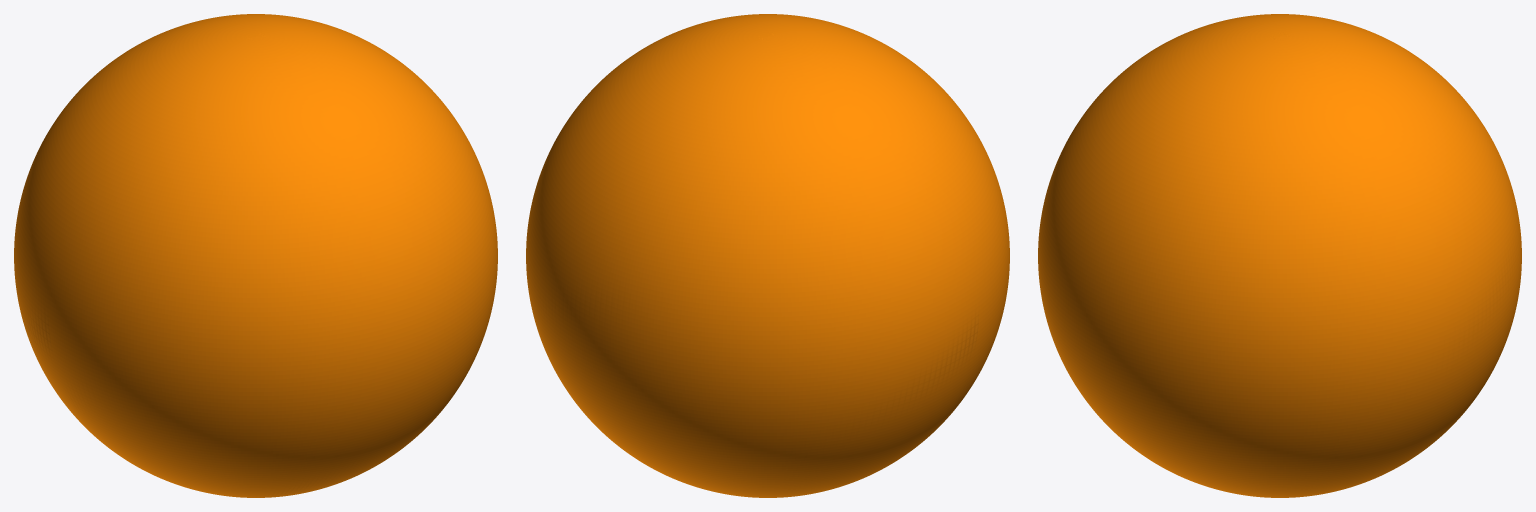
The model's file is testSphere.obj.
3 views of the same model, side by side, from view 1: azimuth 30°, elevation 25°; view 2: azimuth 150°, elevation 25°; view 3: azimuth 270°, elevation 25° (orthographic).
Parts seen in each view (by area): view 1: Sphere; view 2: Sphere; view 3: Sphere.
Part boxes in pixels (bbox=[...]): Sphere: bbox=[14, 14, 497, 497]; Sphere: bbox=[526, 14, 1009, 497]; Sphere: bbox=[1038, 14, 1521, 497].
Size of the model in its own units: 2 by 2 by 2.
1 material, 1 textured.
